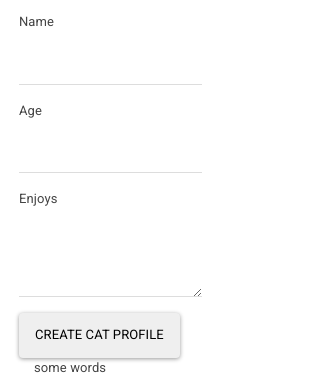
Test case: button changes state
Click the button "Create Cat Profile" at (99, 335), box [19,313,180,358]
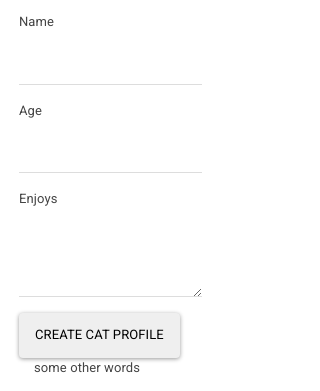
Check: the text "some other words" is shown, box [34,360,140,375]
